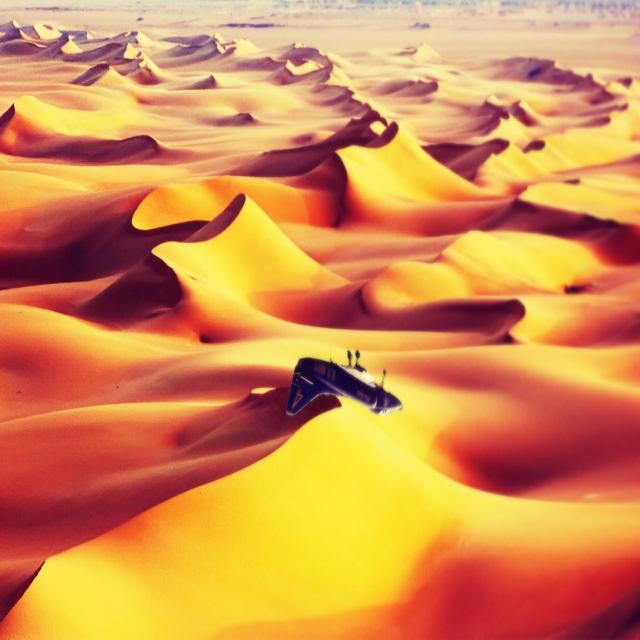airplane: (285, 348, 403, 418)
